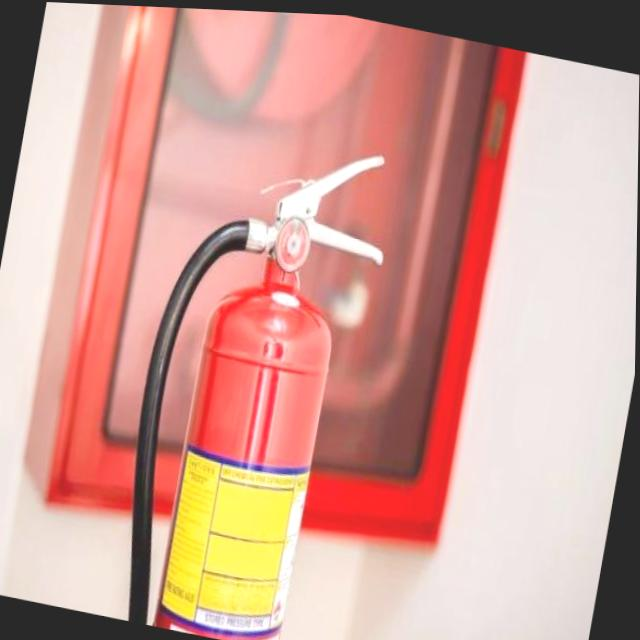FireExtinguisher: (96, 104, 404, 640)
